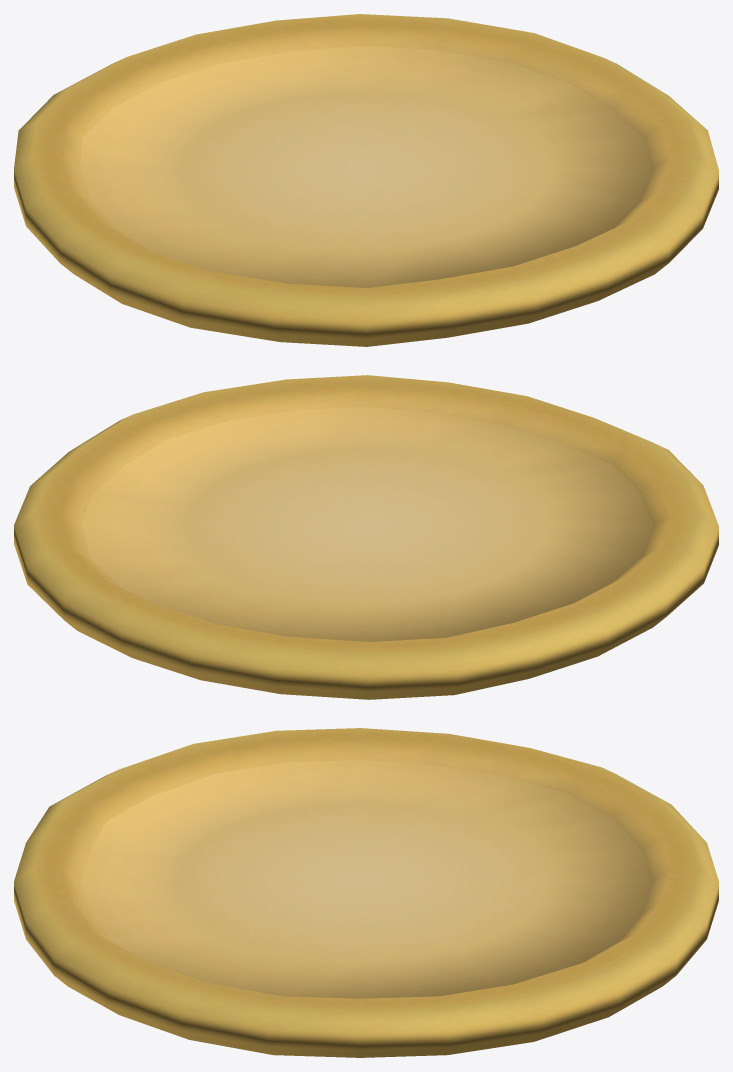
Rendered from UncookedBase.fbx.
3 views of the same model, one above another, from view 1: azimuth 30°, elevation 25°; view 2: azimuth 150°, elevation 25°; view 3: azimuth 270°, elevation 25° (orthographic). The views are drawn at different scales.
Parts seen in each view (by area): view 1: UncookedBase; view 2: UncookedBase; view 3: UncookedBase.
Part boxes in pixels (<box>): UncookedBase: <box>14,14,718,346</box>; UncookedBase: <box>14,375,718,699</box>; UncookedBase: <box>14,728,718,1057</box>.
Size of the model in its own units: 0.943 by 0.0675 by 0.9397.
1 material, 1 textured.
